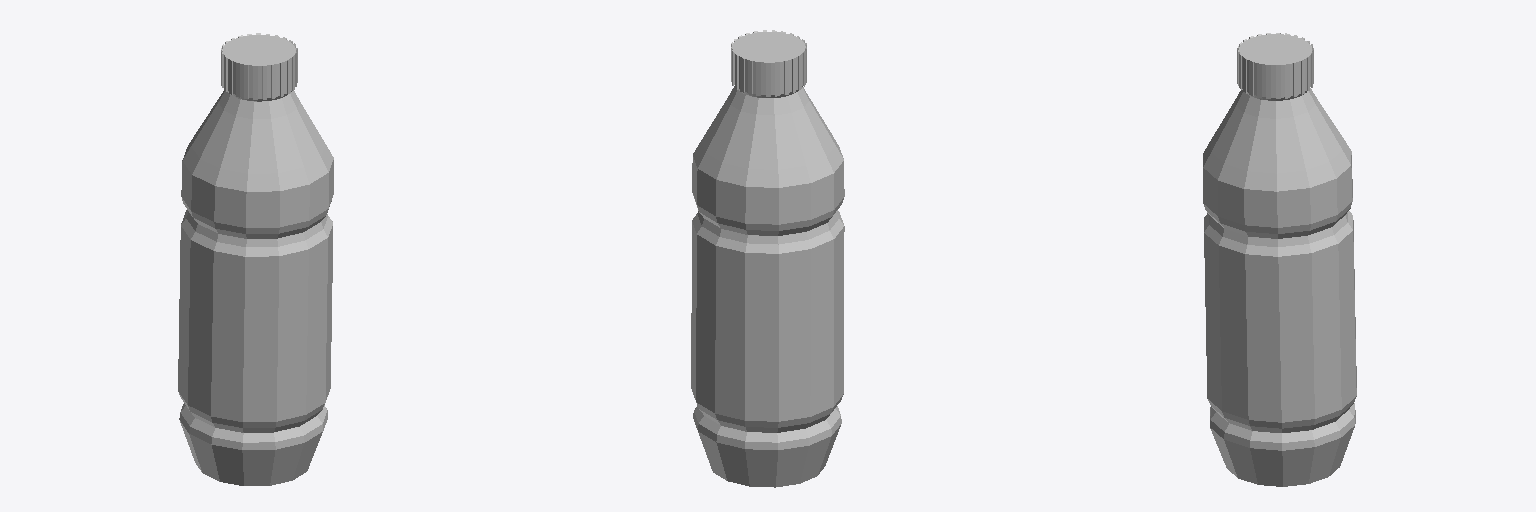
File: bottle1.obj
3 views of the same model, side by side, from view 1: azimuth 30°, elevation 25°; view 2: azimuth 150°, elevation 25°; view 3: azimuth 270°, elevation 25° (orthographic).
Visible parts, largest first — view 1: bottle1:tea_bottle; view 2: bottle1:tea_bottle; view 3: bottle1:tea_bottle.
Boxes of the visible parts, x1,y1,x2,y2 form: bottle1:tea_bottle: [178, 33, 333, 485]; bottle1:tea_bottle: [691, 30, 844, 487]; bottle1:tea_bottle: [1203, 33, 1356, 486].
Size of the model in its own units: 1.68 by 4.99 by 1.67.